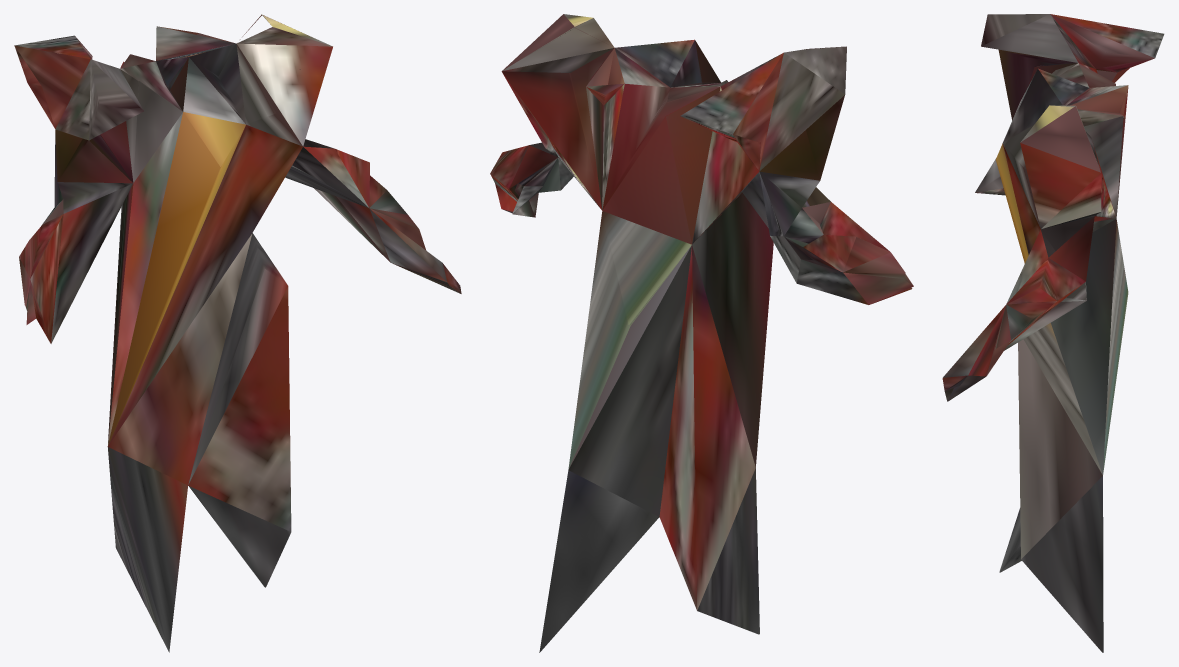
File: crimson_titan_lod2.glb
3 renders of one model, left to right at view 1: azimuth 30°, elevation 25°; view 2: azimuth 150°, elevation 25°; view 3: azimuth 270°, elevation 25°, orthographic. The views are drawn at different scales.
Visible parts, largest first — view 1: Mesh_0; view 2: Mesh_0; view 3: Mesh_0.
Part boxes in pixels (box(x1,y1,x2,y2)): Mesh_0: box(14, 14, 461, 652); Mesh_0: box(490, 14, 913, 652); Mesh_0: box(942, 14, 1164, 652).
Bounding box in the file's own units: 1.3 × 1.82 × 0.6697.
Materials: 1 (1 with a texture image).
